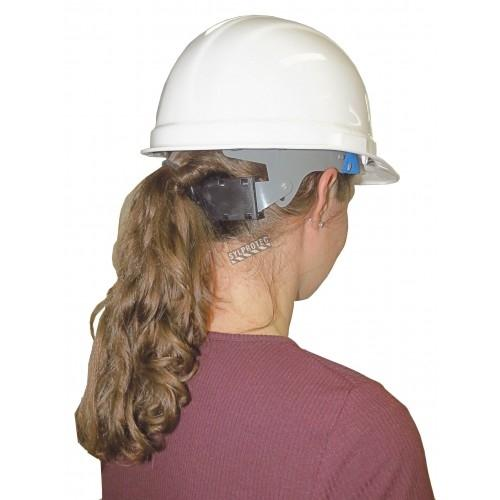helmet: (134, 13, 404, 186)
no_wear: (95, 349, 427, 500)
